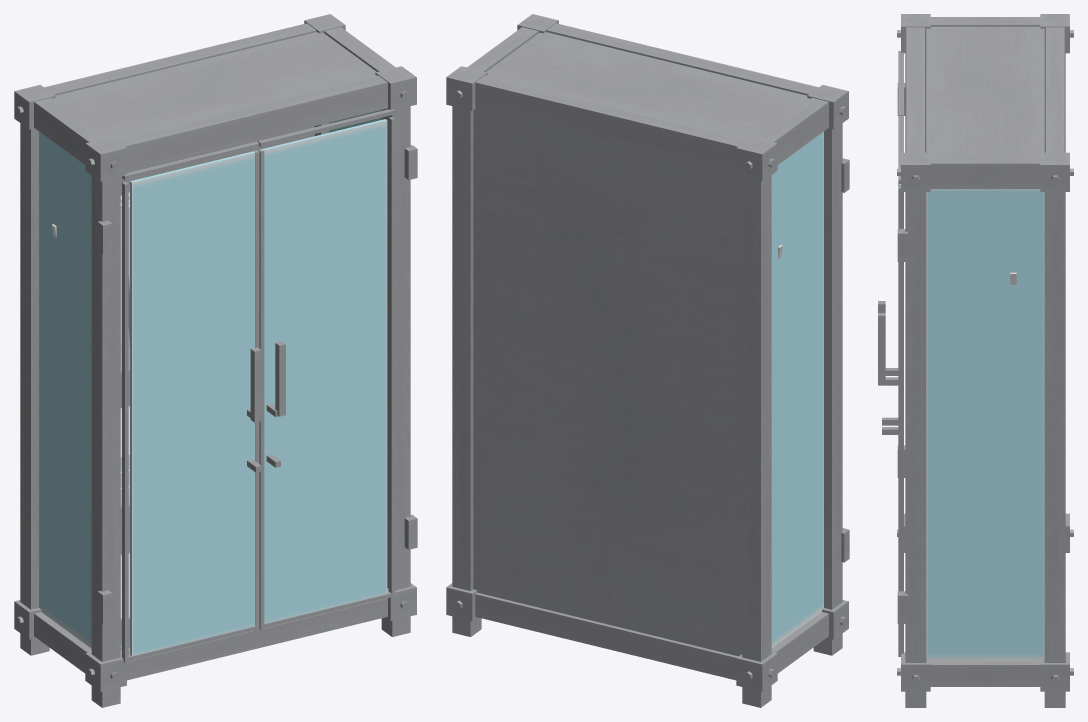
File: cam dolabı.fbx
3 views of the same model, side by side, from view 1: azimuth 30°, elevation 25°; view 2: azimuth 150°, elevation 25°; view 3: azimuth 270°, elevation 25° (orthographic). The views are drawn at different scales.
Visible parts, largest first — view 1: GlassCabinet; view 2: GlassCabinet; view 3: GlassCabinet.
Part boxes in pixels (x1,y1,x2,y2): GlassCabinet: (14, 14, 417, 707); GlassCabinet: (446, 14, 849, 707); GlassCabinet: (878, 14, 1073, 707).
Size of the model in its own units: 1.05 by 1.72 by 0.5615.
